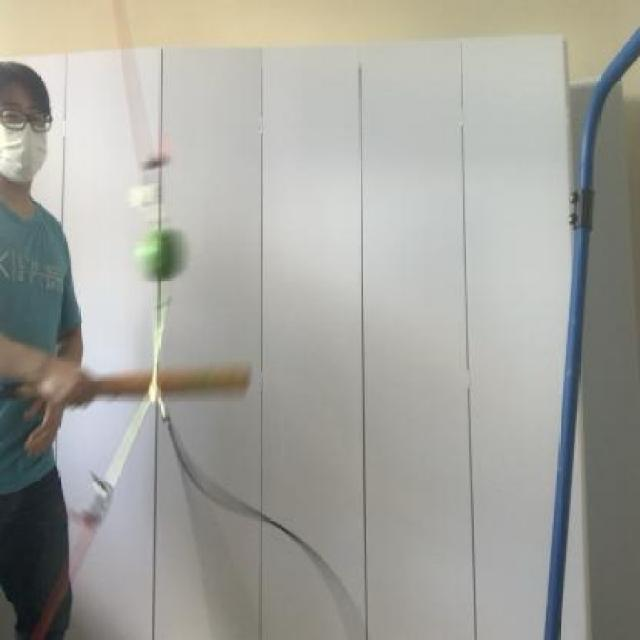baseball: (125, 218, 202, 282)
